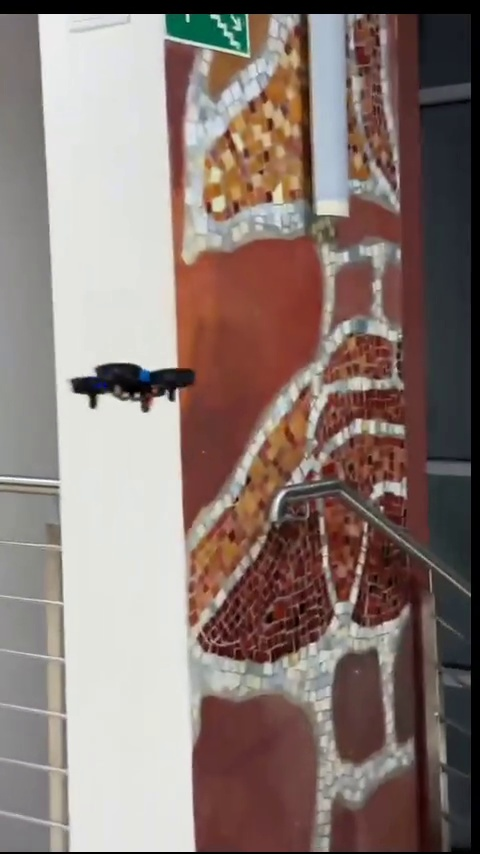drone: (75, 361, 192, 408)
